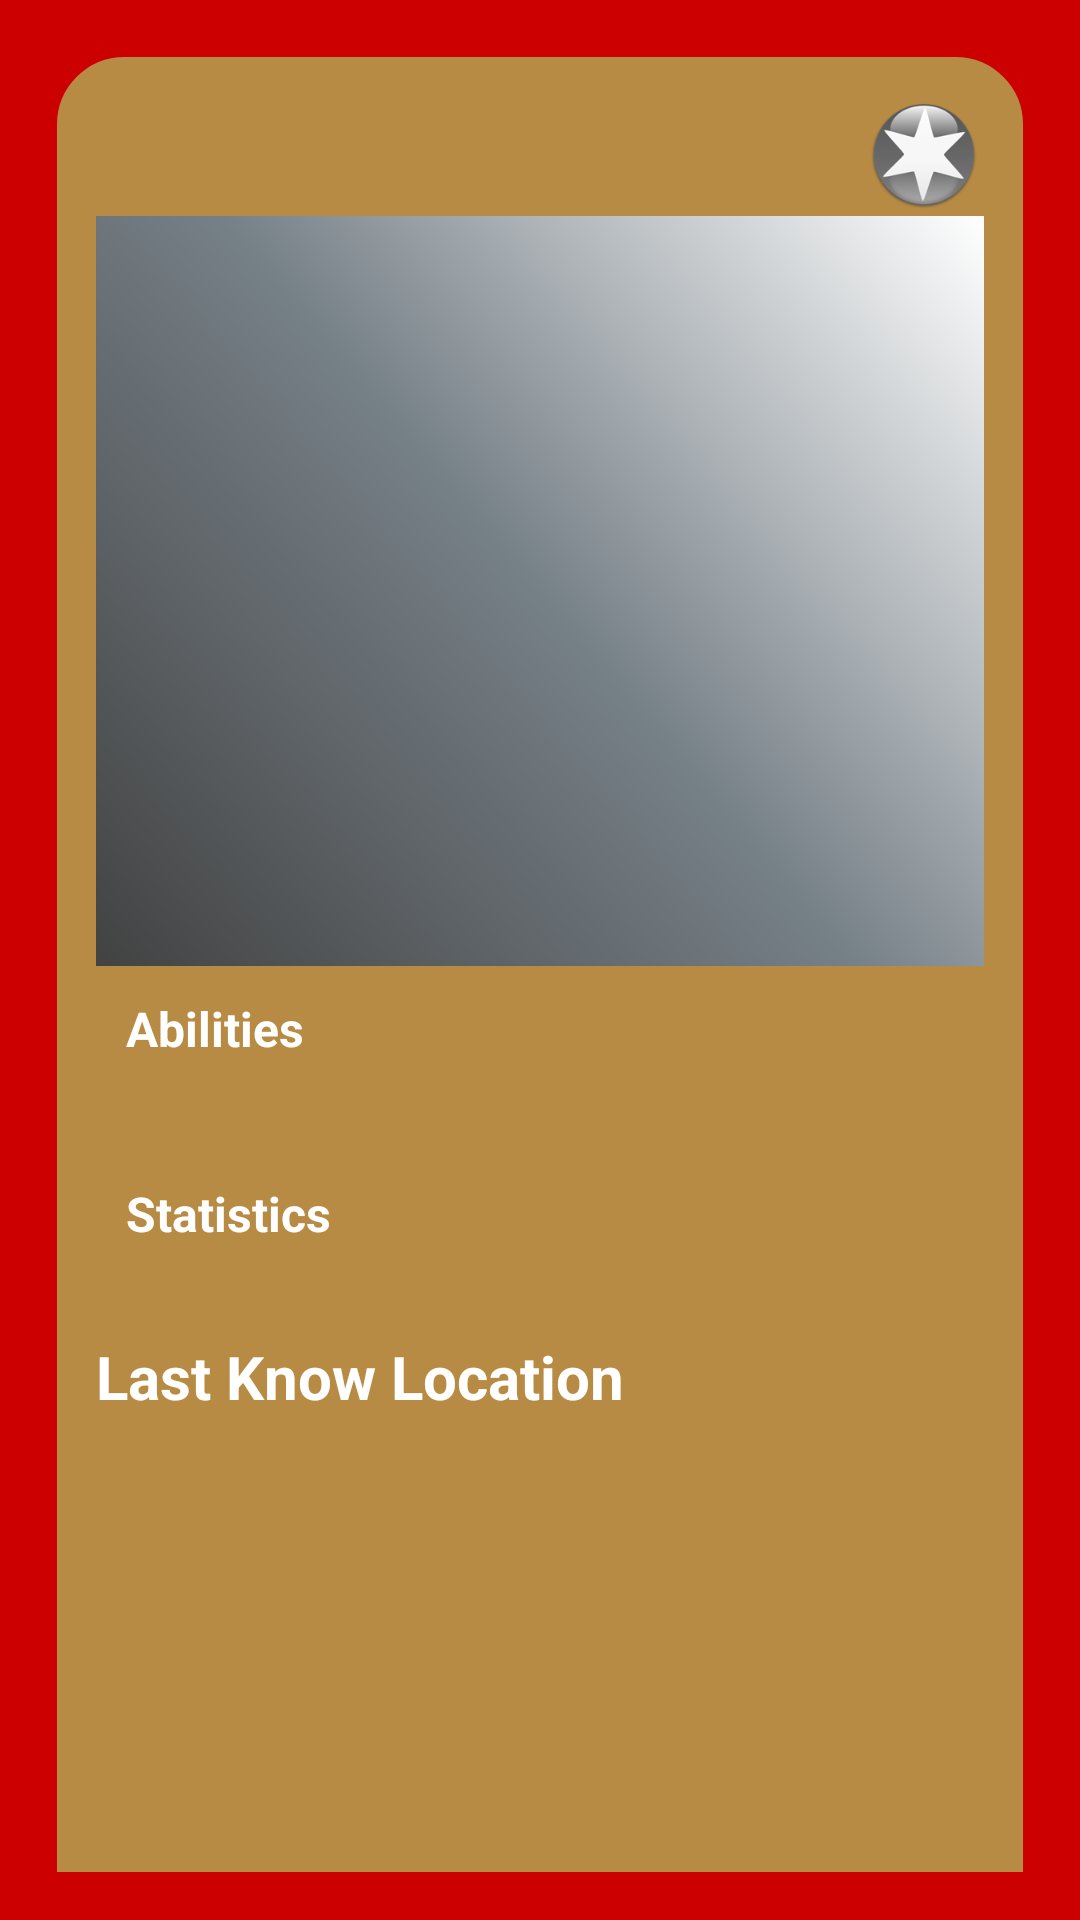

Screen size 1080 x 1920. Icon name, then its box in pixels as {"x1": x1, "y1": y1, "x2": x2, "y2": y2}:
star: {"x1": 873, "y1": 104, "x2": 975, "y2": 207}
